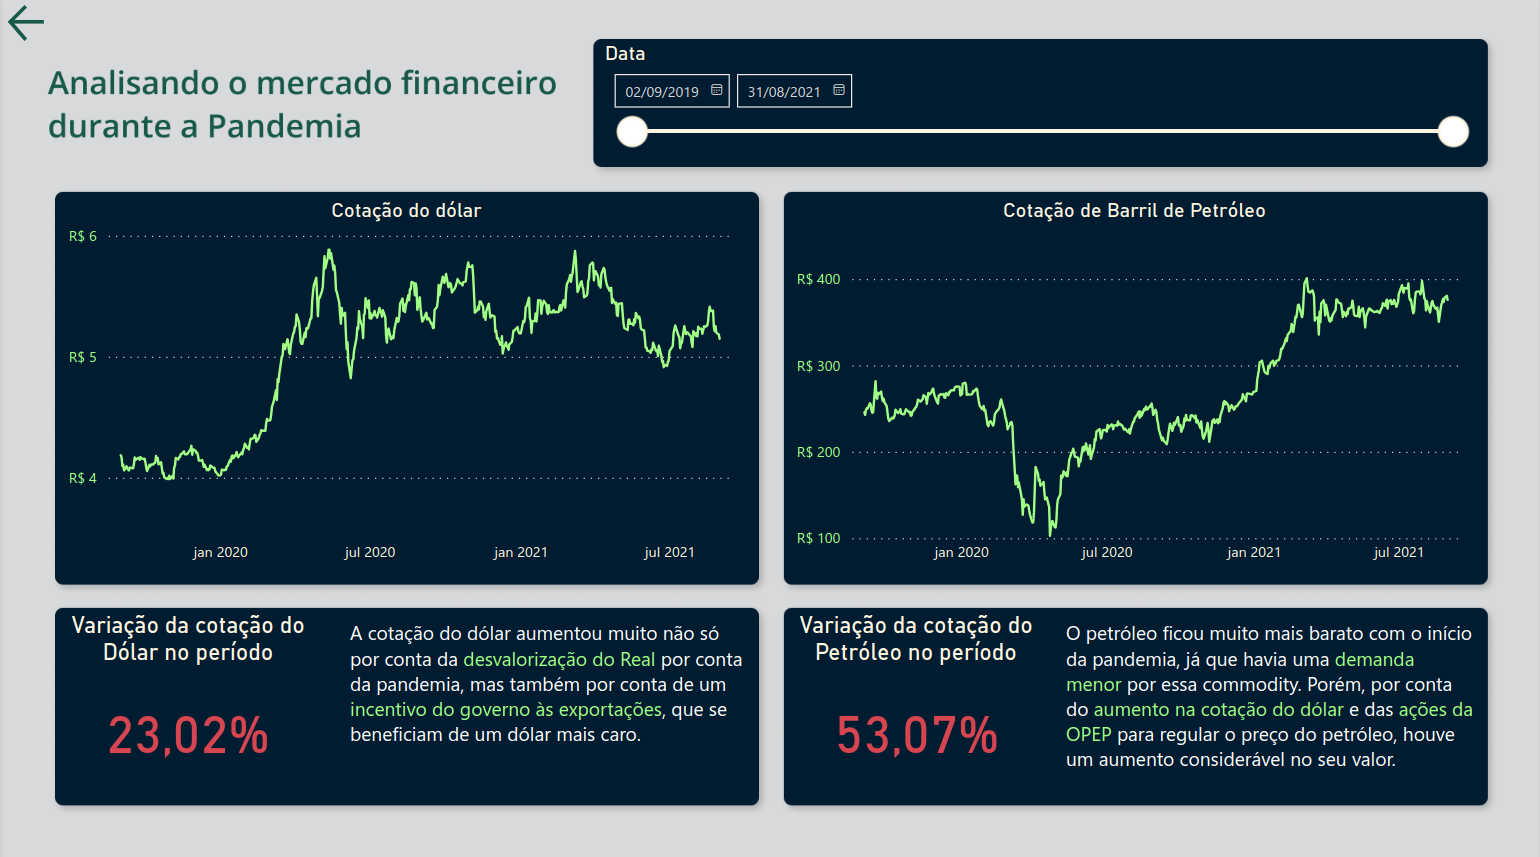

The dashboard page shown, as its layout file describes it:
{"tool":"powerbi","page":{"name":"USD_Petroleo","canvas":[1280,720],"ordinal":2},"visuals":[{"type":"lineChart","title":"Cotação do dólar","fields":{"Y":["Sum(usd_petroleo.Dólar)"],"Category":["usd_petroleo.DATA"]},"box":[49.6,168.1,574.4,311],"z":0},{"type":"lineChart","title":"Cotação de Barril de Petróleo","fields":{"Y":["Sum(usd_petroleo.Petróleo)1"],"Category":["usd_petroleo.DATA"]},"box":[656,168.1,574.4,311],"z":1000},{"type":"slicer","title":"Data","fields":{"Values":["usd_petroleo.DATA"]},"box":[496.6,37.9,733.8,96.2],"z":2000},{"type":"card","title":"Variação da cotação do Dólar no período","fields":{"Values":["Medidas.VariacaoUsd"]},"box":[49.6,512.2,209.9,154.5],"z":3000},{"type":"card","title":"Variação da cotação do Petróleo no período","fields":{"Values":["Medidas.VariacaoPetroleo"]},"box":[656,512.2,209.9,154.5],"z":4000},{"type":"textbox","box":[283.8,512.2,340.2,154.5],"z":5000},{"type":"textbox","box":[880.5,512.2,349.9,166.2],"z":6000},{"type":"actionButton","box":[0,0,49.6,39.8],"z":7000}]}

Visuals, with their boxes in screenshot pixels (x1, y1, x2, y2), scaled from the page's 1280x720 canvas onto the 1540x857 screenshot:
"Cotação do dólar" lineChart: bbox(60, 200, 751, 570)
"Cotação de Barril de Petróleo" lineChart: bbox(789, 200, 1480, 570)
"Data" slicer: bbox(597, 45, 1480, 160)
"Variação da cotação do Dólar no período" card: bbox(60, 610, 312, 794)
"Variação da cotação do Petróleo no período" card: bbox(789, 610, 1042, 794)
textbox: bbox(341, 610, 751, 794)
textbox: bbox(1059, 610, 1480, 807)
actionButton: bbox(0, 0, 60, 47)
